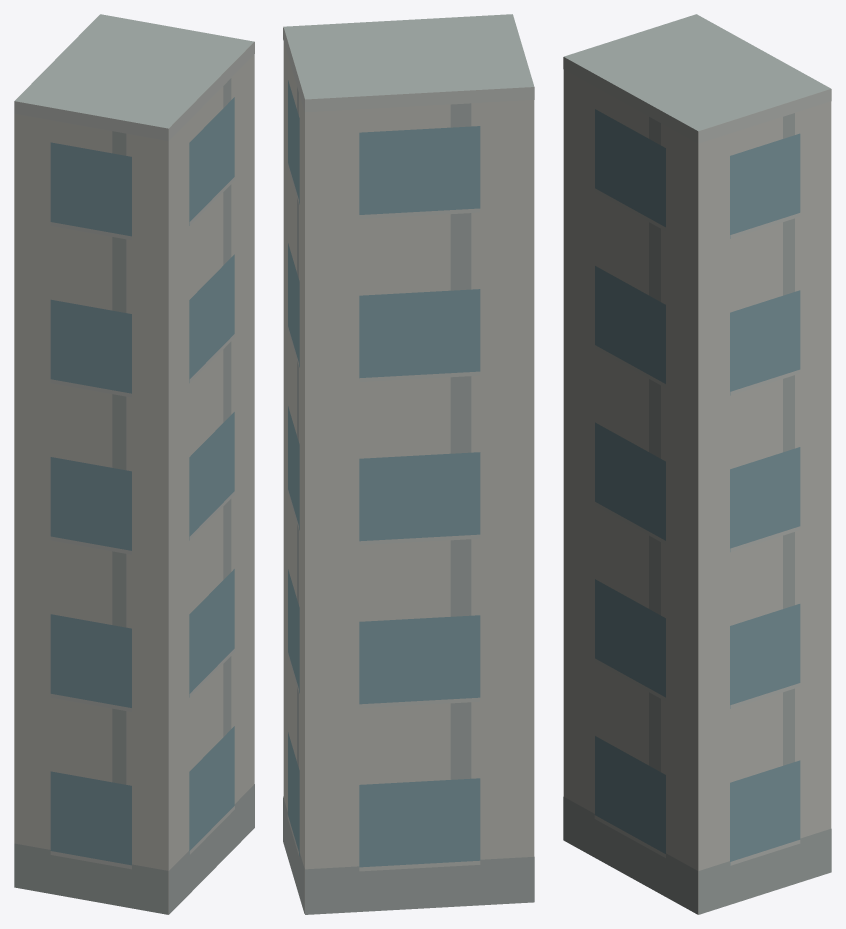
Rendered from survey-upis-32902483.glb.
3 renders of one model, left to right at view 1: azimuth 30°, elevation 25°; view 2: azimuth 150°, elevation 25°; view 3: azimuth 270°, elevation 25°, orthographic. The views are drawn at different scales.
Visible parts, largest first — view 1: survey-upis-32902483.tmp; view 2: survey-upis-32902483.tmp; view 3: survey-upis-32902483.tmp.
Boxes of the visible parts, <box> form: survey-upis-32902483.tmp: <box>14,14,254,914</box>; survey-upis-32902483.tmp: <box>283,14,534,914</box>; survey-upis-32902483.tmp: <box>563,14,831,914</box>.
Bounding box in the file's own units: 4.9 × 15.25 × 4.74.
